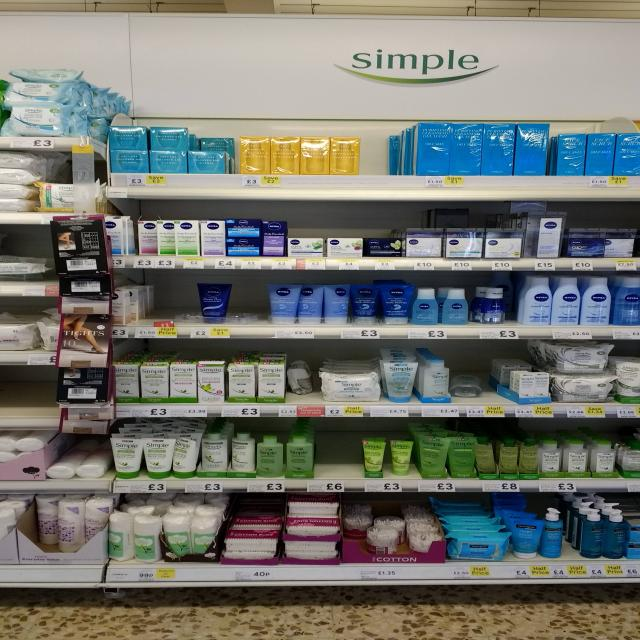void: (468, 341, 499, 404), (329, 417, 360, 477), (148, 270, 183, 323), (12, 366, 47, 413), (367, 138, 391, 172)
